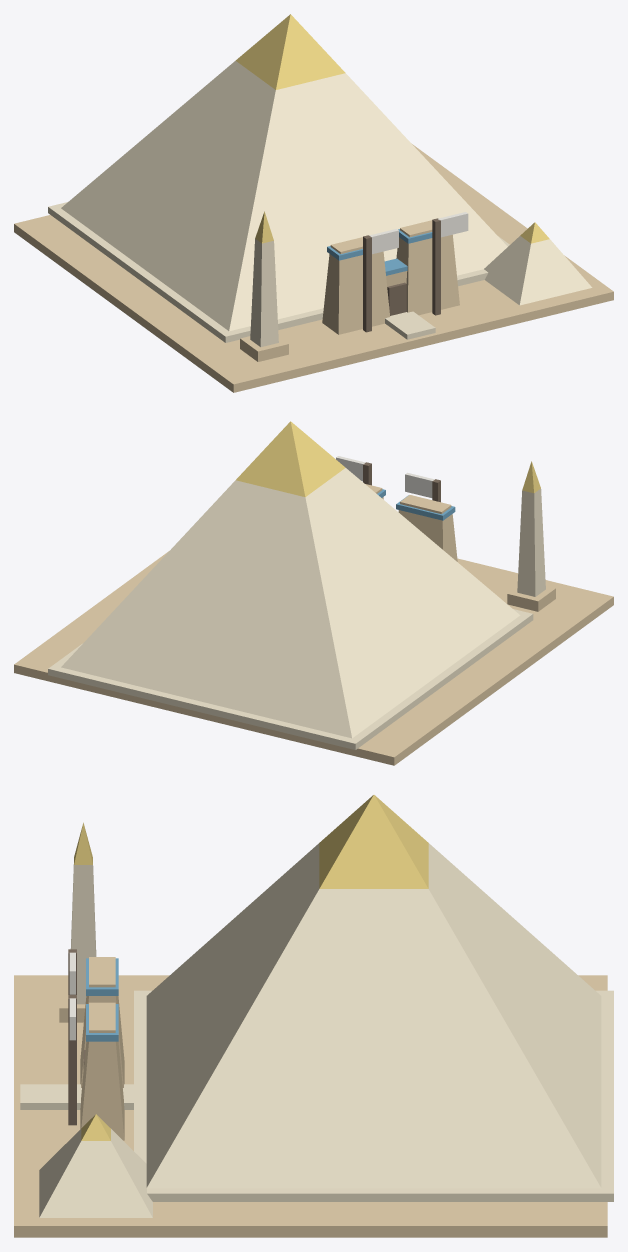
File: temple.glb
3 renders of one model, top to bottom at view 1: azimuth 30°, elevation 25°; view 2: azimuth 150°, elevation 25°; view 3: azimuth 270°, elevation 25°, orthographic. The views are drawn at different scales.
Visible parts, largest first — view 1: egyptian_temple; view 2: egyptian_temple; view 3: egyptian_temple.
Part boxes in pixels (<box>): egyptian_temple: <box>14,14,613,392</box>; egyptian_temple: <box>14,421,613,765</box>; egyptian_temple: <box>14,795,613,1237</box>.
Bounding box in the file's own units: 0.94 × 0.555 × 0.95.
